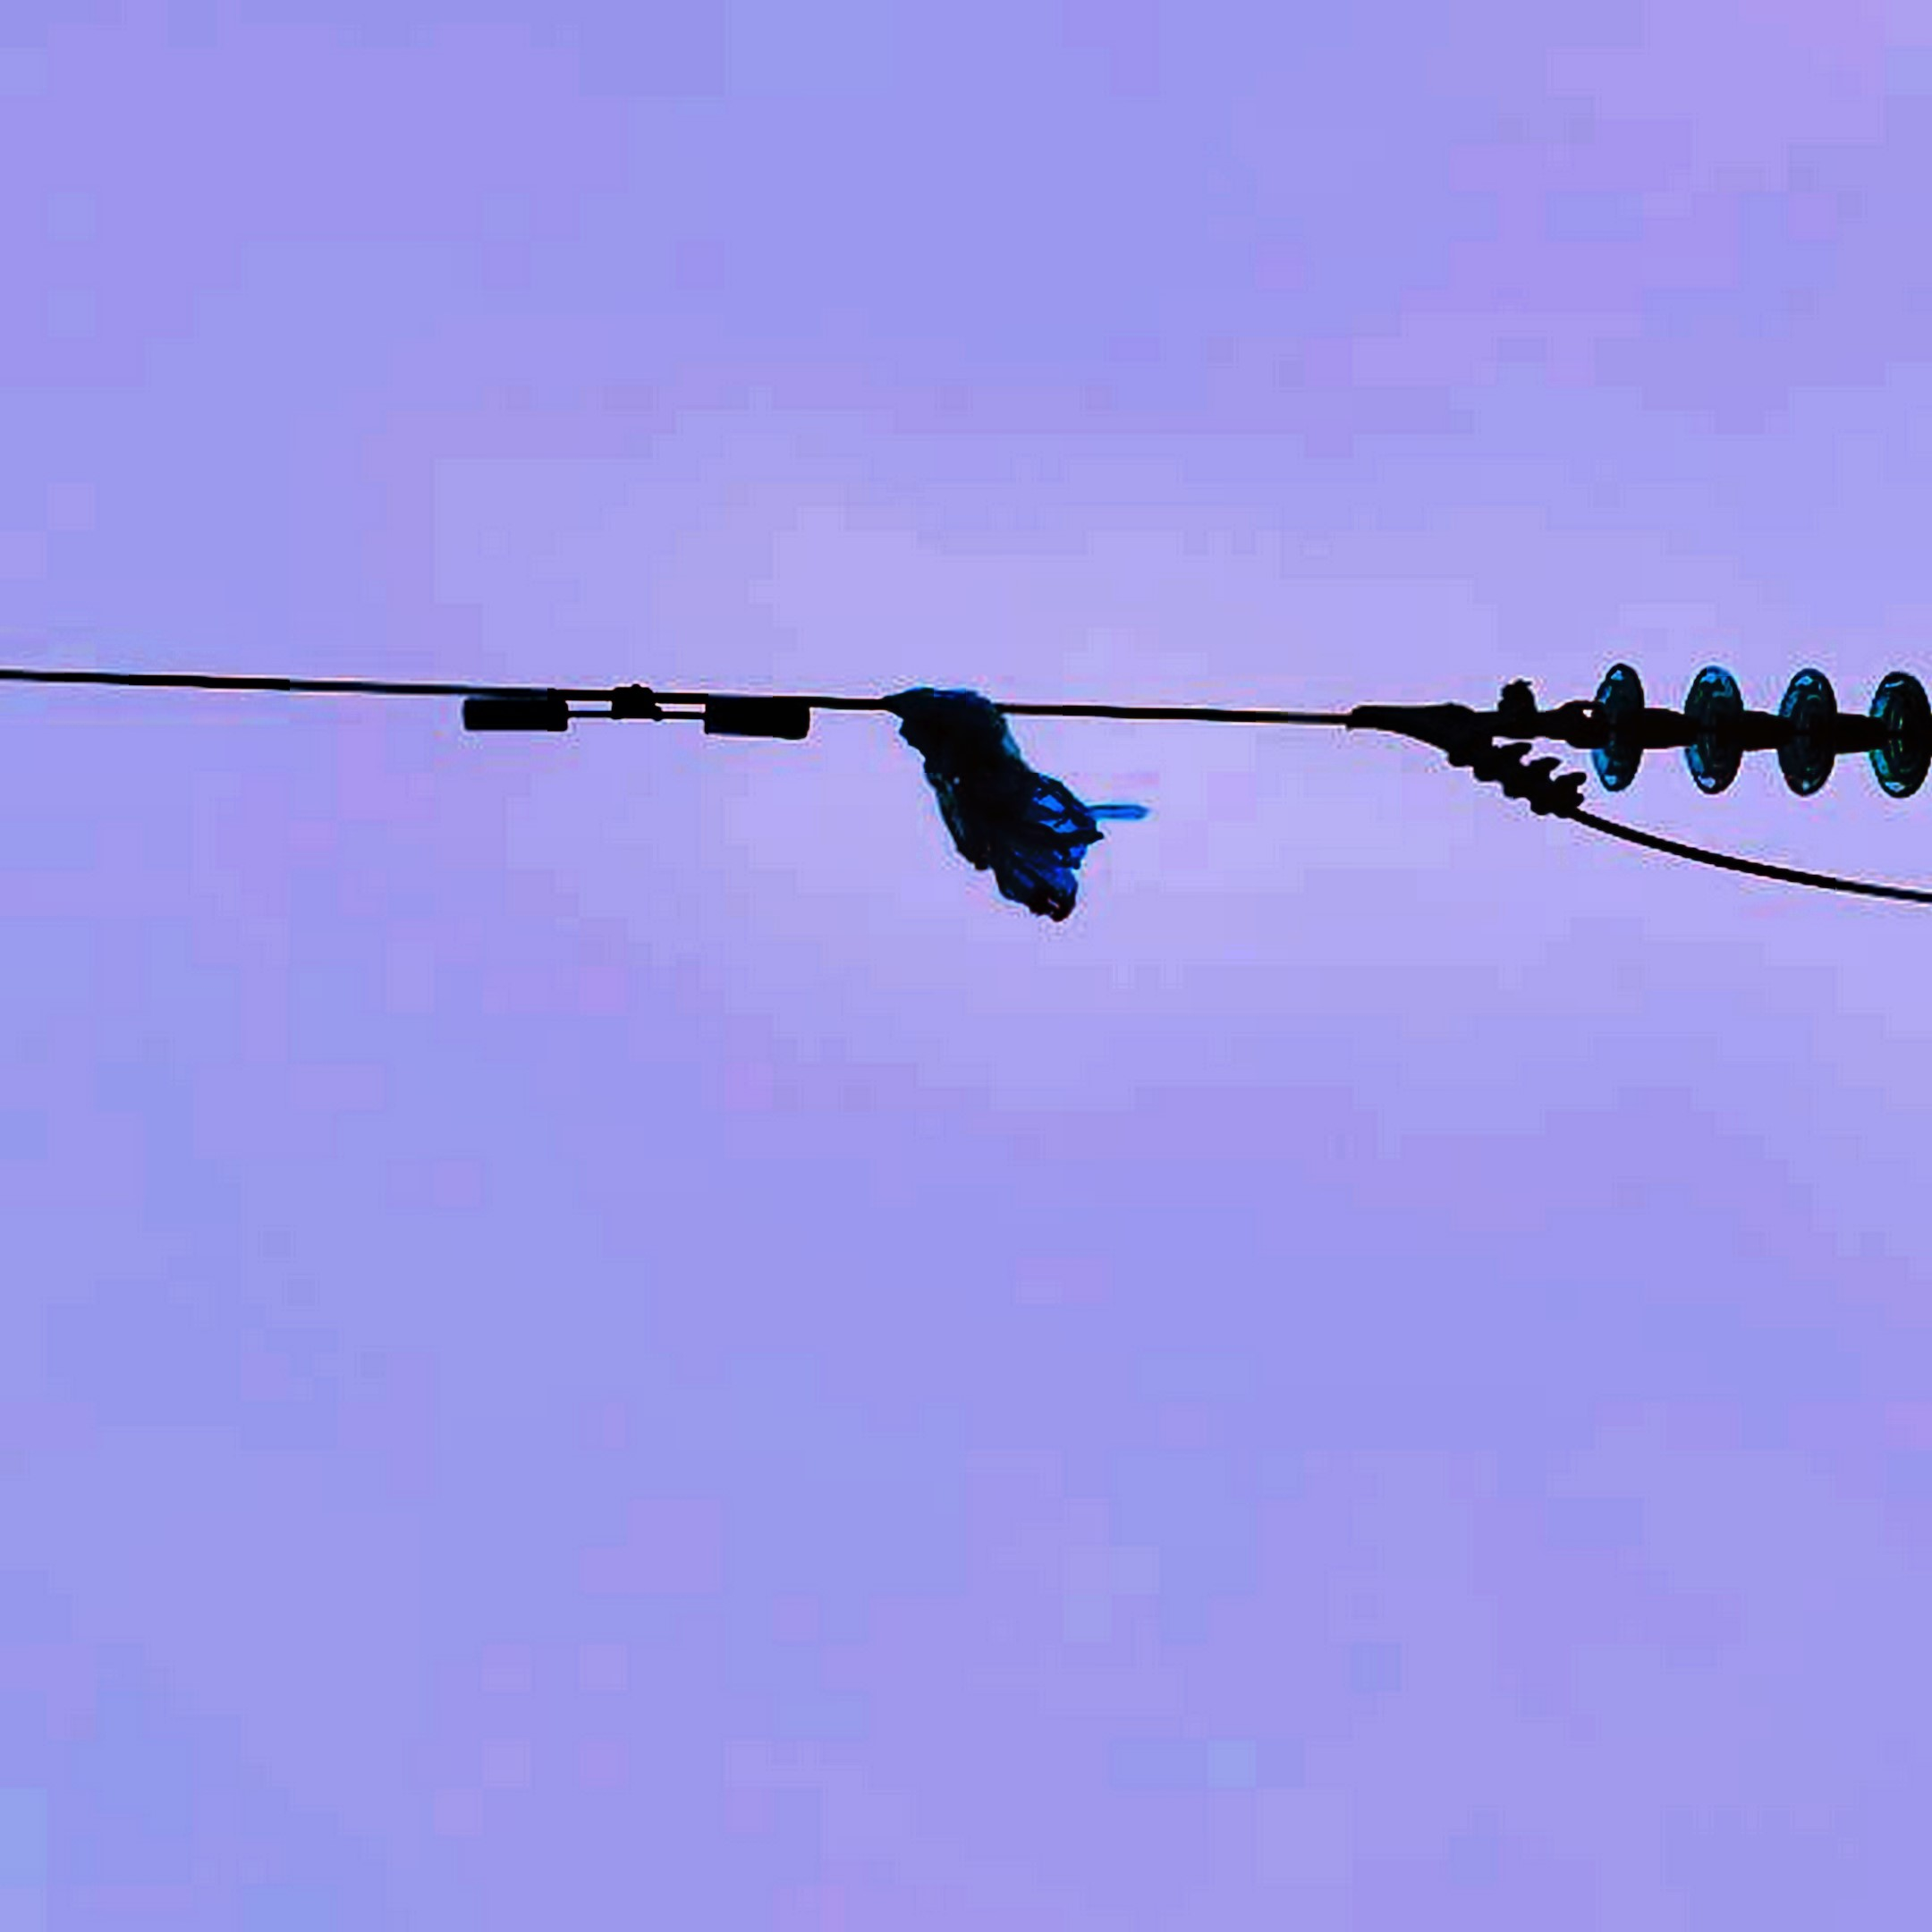wire foreign body: (860, 660, 1162, 941)
